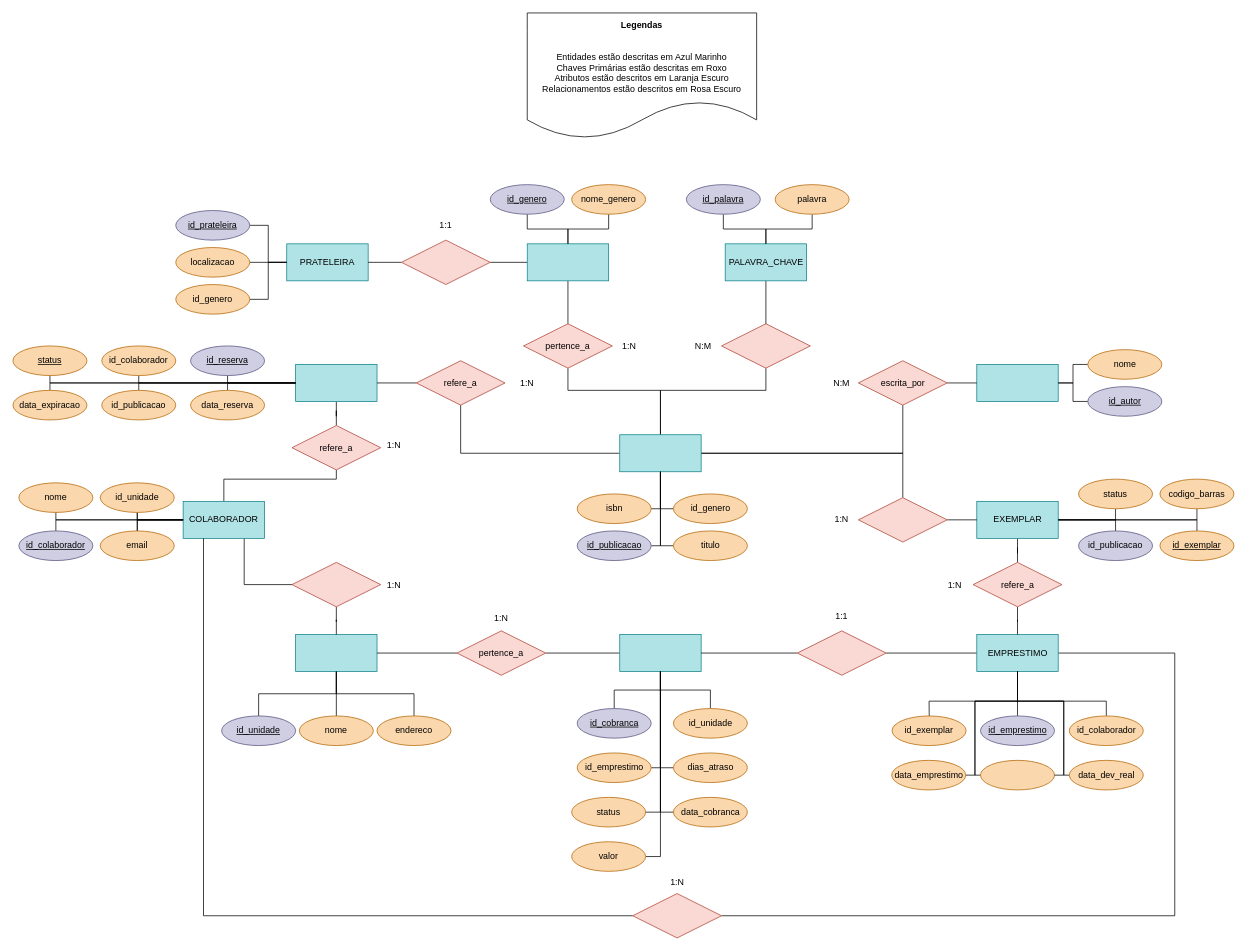
This 1247x951 diagram has some shape labels left out. Here are the shapes that lost their labels. From the top down, the centre of each, then its label:
At point 445,262: "organizado_em".
At point 568,262: "GENERO".
At point 765,345: "possui_palavra".
At point 336,382: "RESERVA".
At point 1017,382: "AUTOR".
At point 660,453: "PUBLICACAO".
At point 902,519: "possui_exemplar".
At point 336,584: "locado_em".
At point 336,653: "UNIDADE".
At point 660,653: "COBRANCA".
At point 841,652: "gera_cobranca".
At point 1017,775: "data_dev_prevista".
At point 677,915: "registrado_por".
